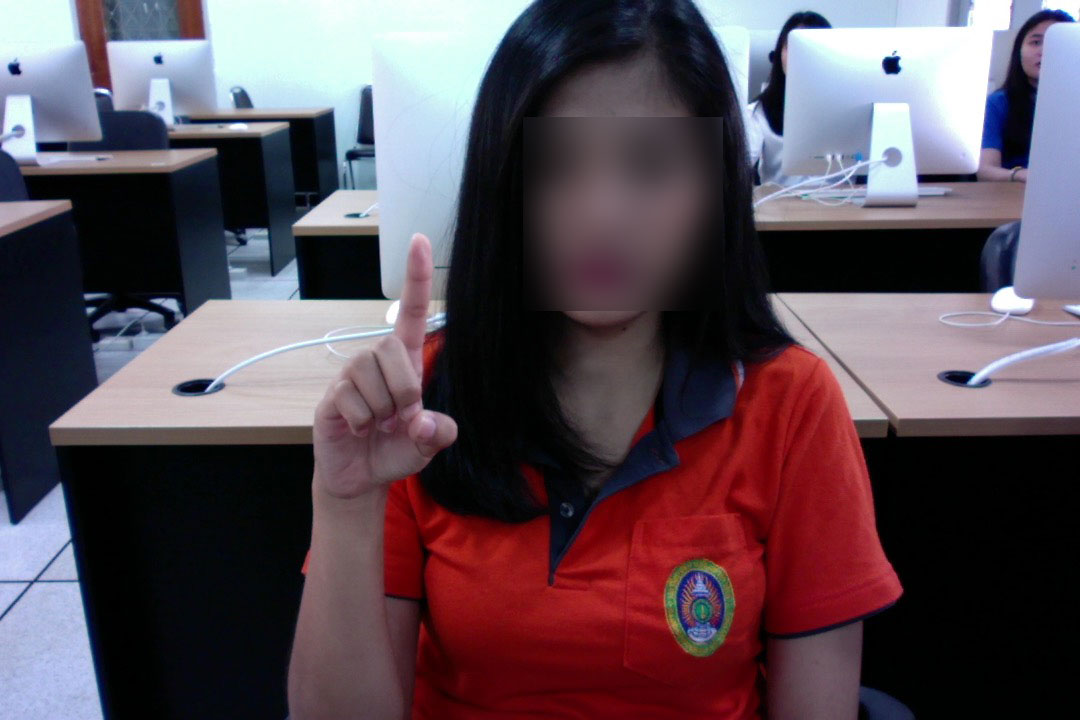dor: (289, 220, 468, 524)
